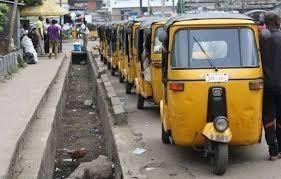keke: (155, 8, 278, 170)
